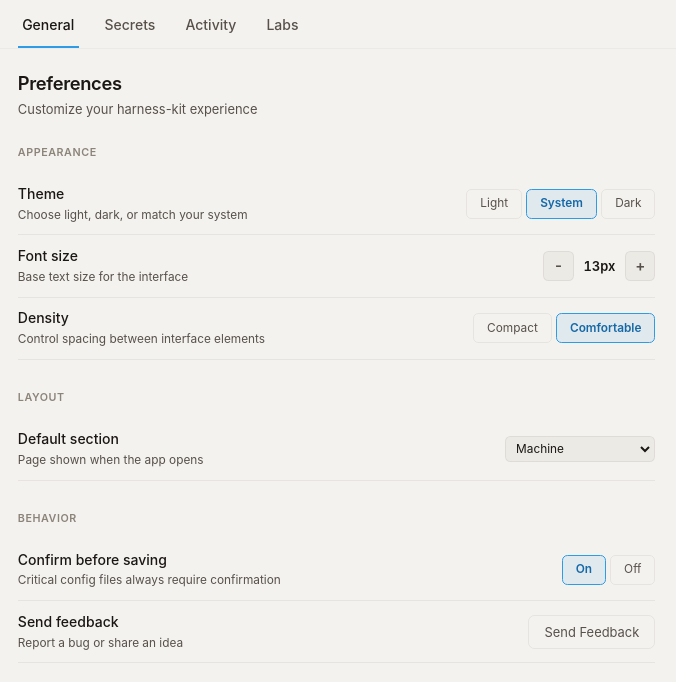
PreferencesPage › decrements font size back after incrementing
Click the button named "Increase font size": (640, 266) left=625, top=251, right=655, bottom=281
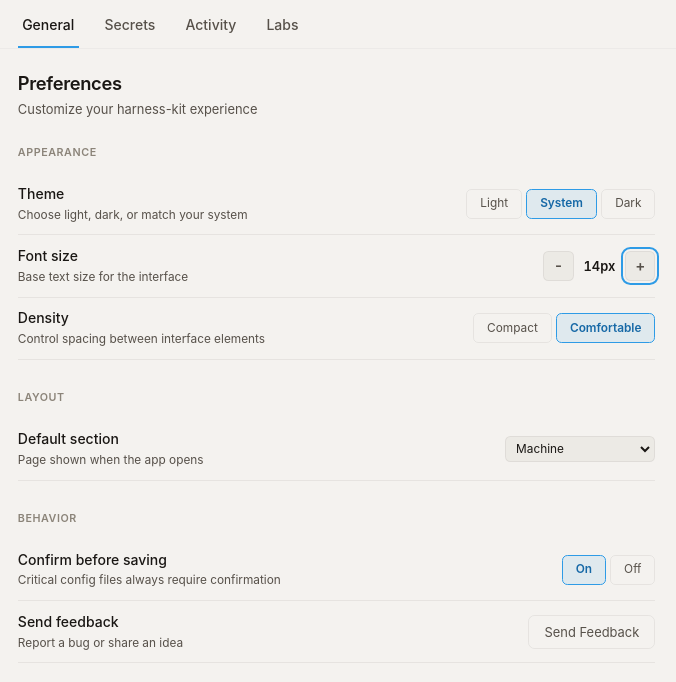
Check: the text "14px" is shown, box left=582, top=257, right=617, bottom=275
Click the button named "Decrease font size": (558, 266) left=543, top=251, right=574, bottom=281
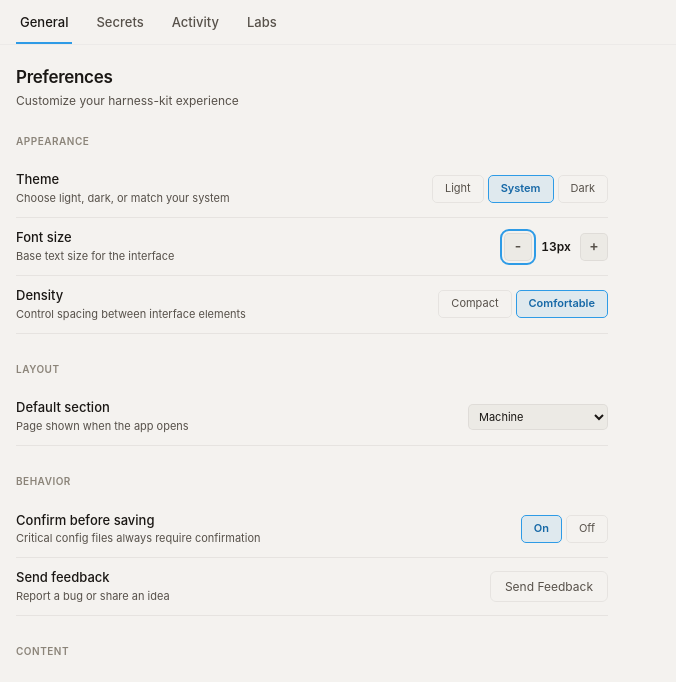
Check: the text "13px" is shown, box left=540, top=238, right=572, bottom=255
